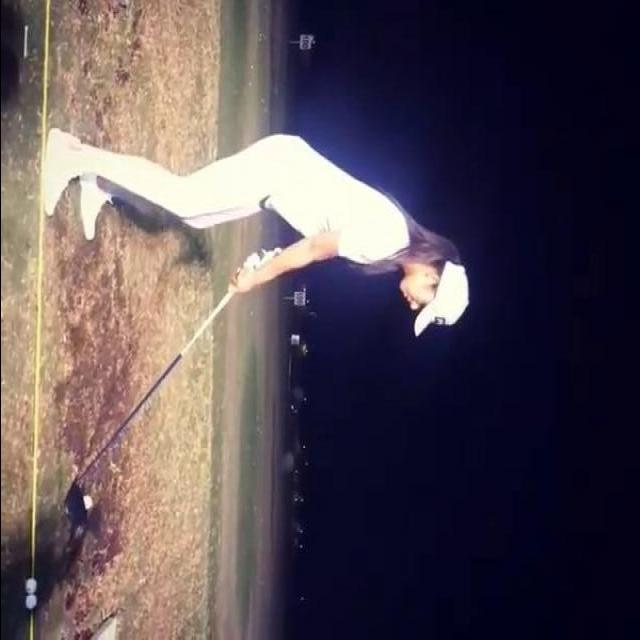ClubHandle: (61, 251, 259, 531)
ClubHead: (62, 485, 84, 528)
GolfBall: (81, 495, 93, 509)
